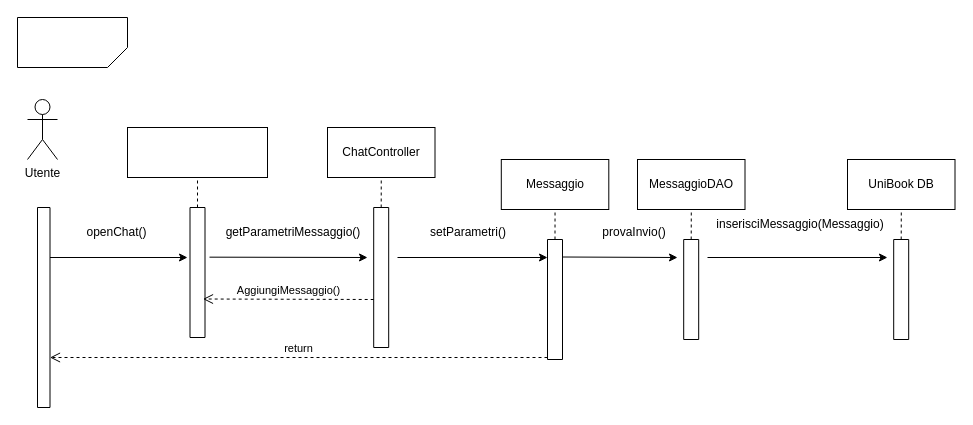
Some shapes in this 973 by 425 pixel diagram are drawn without their labels. The shapes that lost their labels are listed below. From the top down, each one's centre as x and y in pixels, then its label:
At (72,42): "Chat".
At (197,152): "ChatView".
